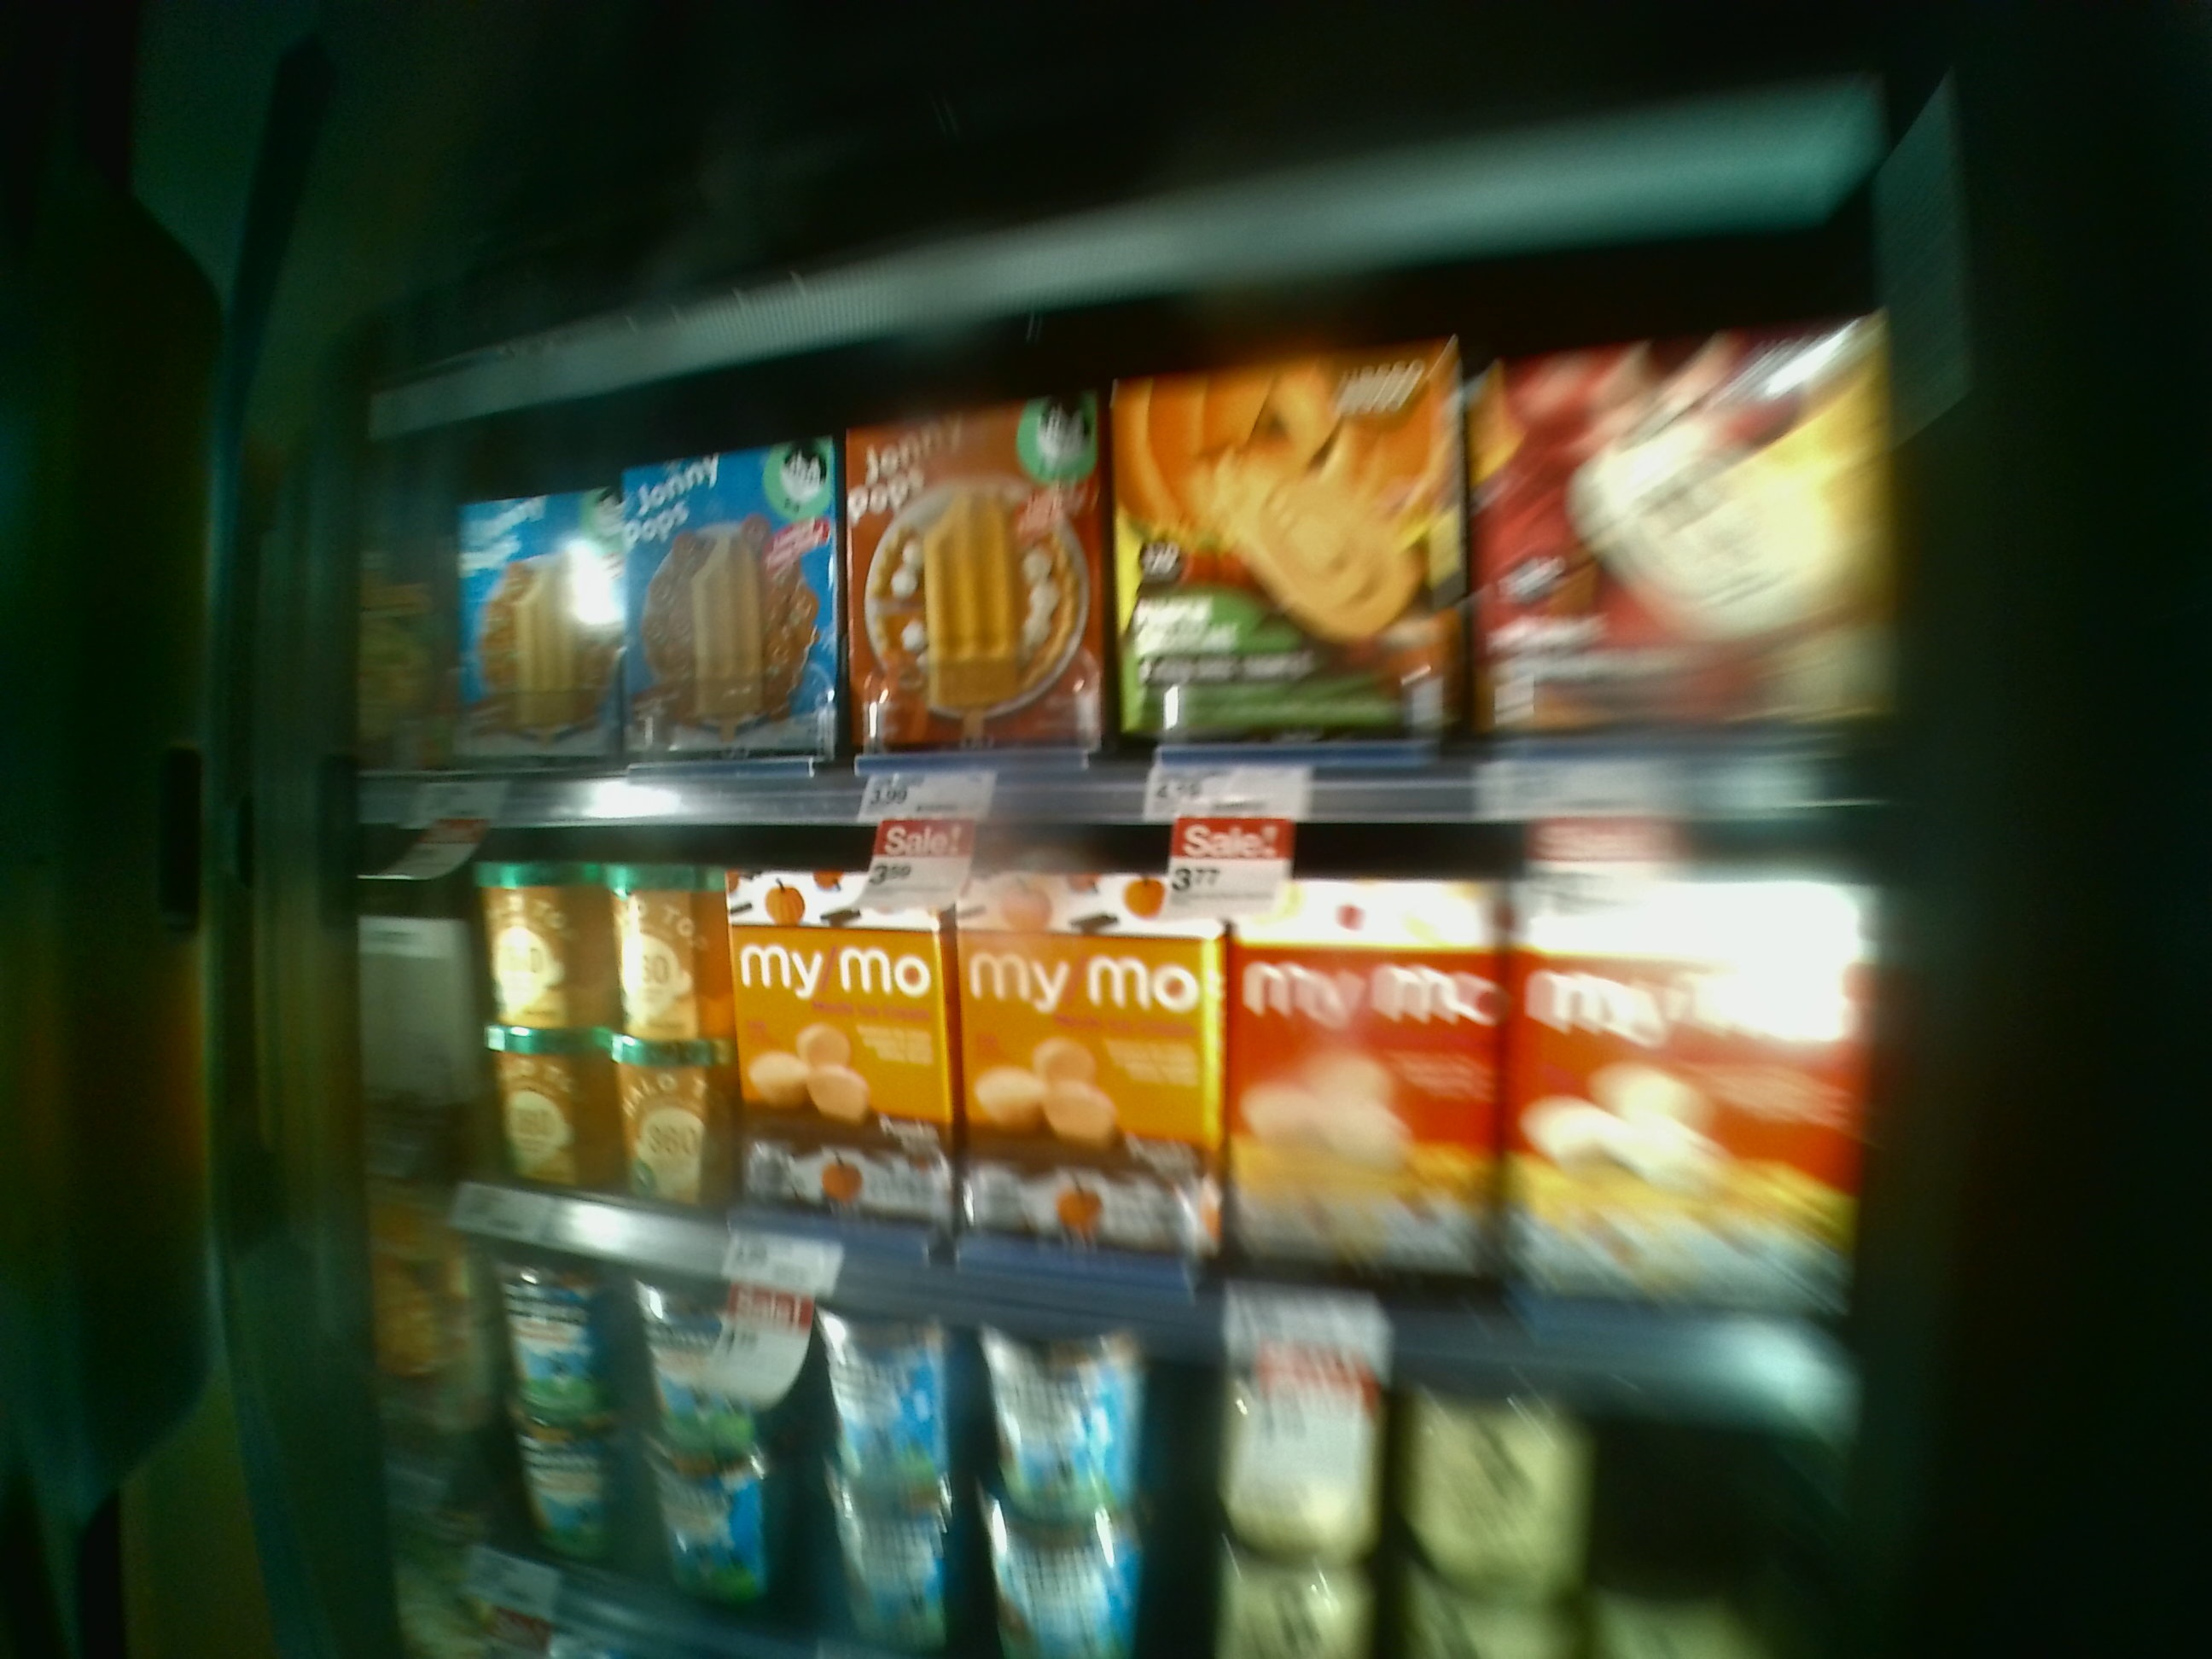shelf: (350, 781, 1850, 1394), (381, 359, 1872, 798)
